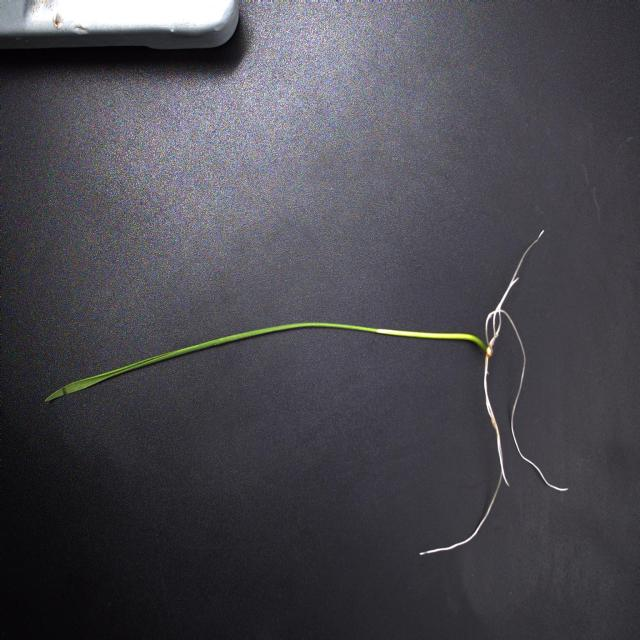leaf: (44, 322, 377, 402)
root: (419, 227, 571, 559)
stem: (375, 325, 488, 357)
